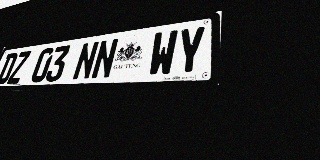0: (29, 47, 56, 83)
3: (44, 45, 71, 82)
D: (0, 52, 19, 85)
N: (90, 38, 119, 80), (71, 41, 100, 81)
W: (147, 29, 178, 77)
Y: (174, 25, 206, 75)
Z: (6, 51, 31, 84)
